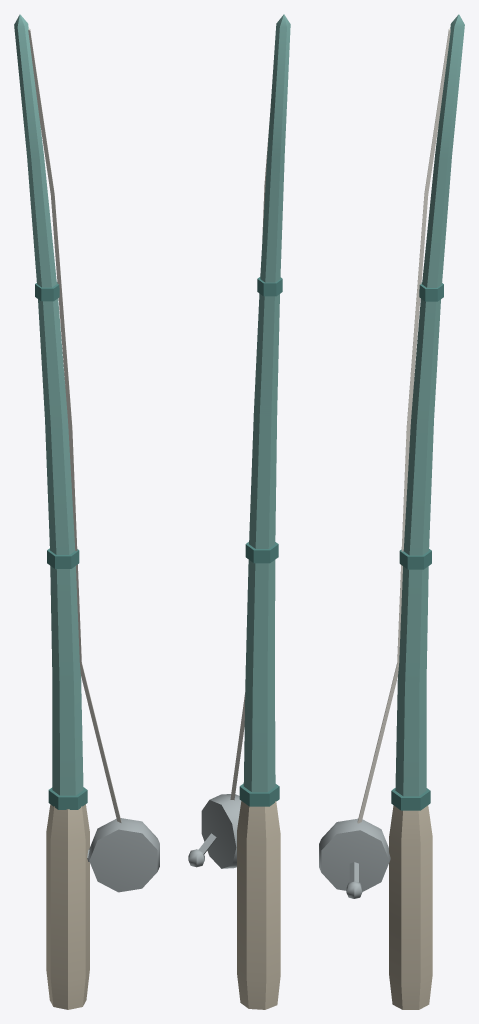
Rendered from rod-3.glb.
3 renders of one model, left to right at view 1: azimuth 90°, elevation 25°; view 2: azimuth 210°, elevation 25°; view 3: azimuth 270°, elevation 25°, orthographic.
Visible parts, largest first — view 1: rod-3; view 2: rod-3; view 3: rod-3.
Boxes of the visible parts, bbox=[...] form: rod-3: bbox=[14, 14, 159, 1009]; rod-3: bbox=[188, 14, 290, 1009]; rod-3: bbox=[319, 14, 464, 1009].
Bounding box in the file's own units: 0.06 × 0.9296 × 0.124.
